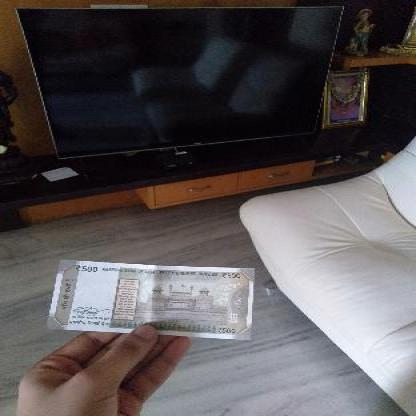New500Back: (58, 260, 254, 338)
